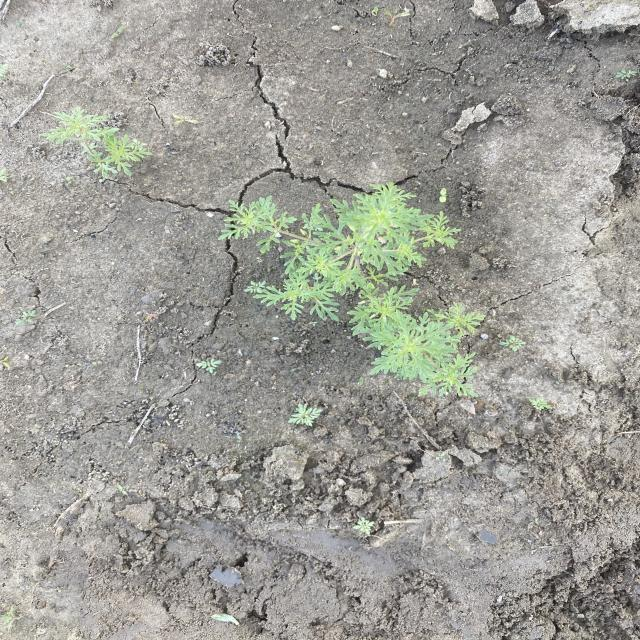Ragweed: (216, 181, 488, 399), (37, 104, 156, 181), (285, 402, 325, 428), (351, 516, 380, 539), (527, 396, 553, 414), (196, 357, 223, 374), (500, 335, 527, 352)
